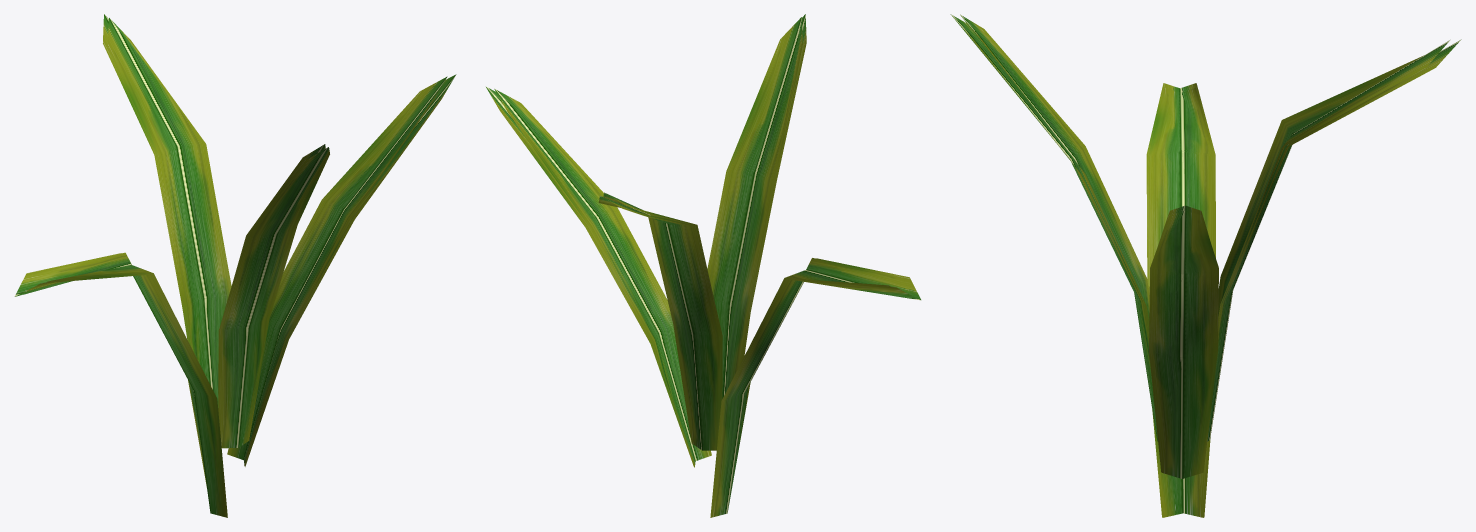
Rendered from CornYoung.FBX.
3 renders of one model, left to right at view 1: azimuth 30°, elevation 25°; view 2: azimuth 150°, elevation 25°; view 3: azimuth 270°, elevation 25°, orthographic. The views are drawn at different scales.
Visible parts, largest first — view 1: Corn Young001; view 2: Corn Young001; view 3: Corn Young001.
Boxes of the visible parts, left/top/right/bottom form: Corn Young001: left=14, top=14, right=456, bottom=517; Corn Young001: left=486, top=14, right=920, bottom=517; Corn Young001: left=950, top=14, right=1461, bottom=517.
Bounding box in the file's own units: 55.33 × 51.69 × 46.98.
